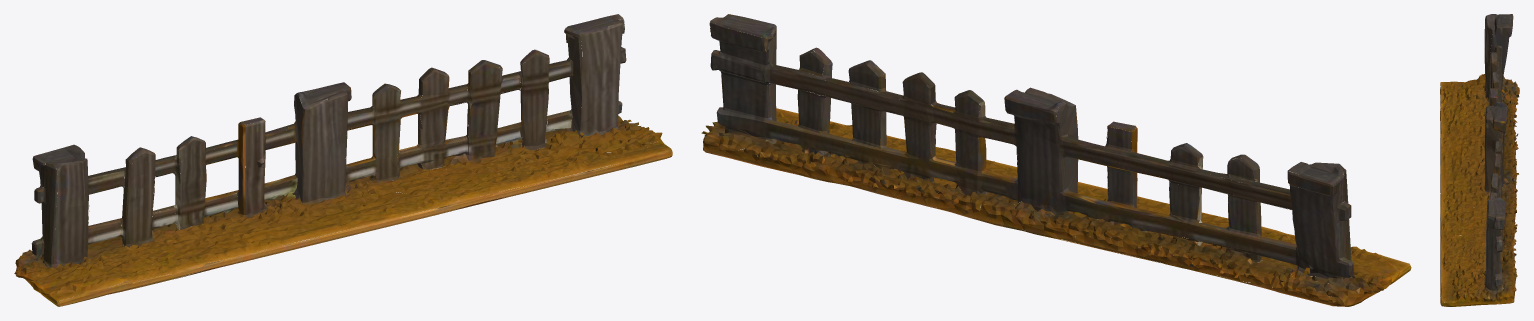
File: wt-village-rail-fence.glb
3 views of the same model, side by side, from view 1: azimuth 30°, elevation 25°; view 2: azimuth 150°, elevation 25°; view 3: azimuth 270°, elevation 25° (orthographic). The views are drawn at different scales.
Parts seen in each view (by area): view 1: tmptioqdqcm.ply; view 2: tmptioqdqcm.ply; view 3: tmptioqdqcm.ply.
Part boxes in pixels (x1=…): tmptioqdqcm.ply: x1=14, y1=14, x2=672, y2=306; tmptioqdqcm.ply: x1=701, y1=14, x2=1411, y2=306; tmptioqdqcm.ply: x1=1440, y1=14, x2=1519, y2=306.
Bounding box in the file's own units: 5 × 0.9025 × 0.75.
Materials: 1 (1 with a texture image).
